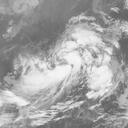cyclone: (40, 36, 100, 92)
